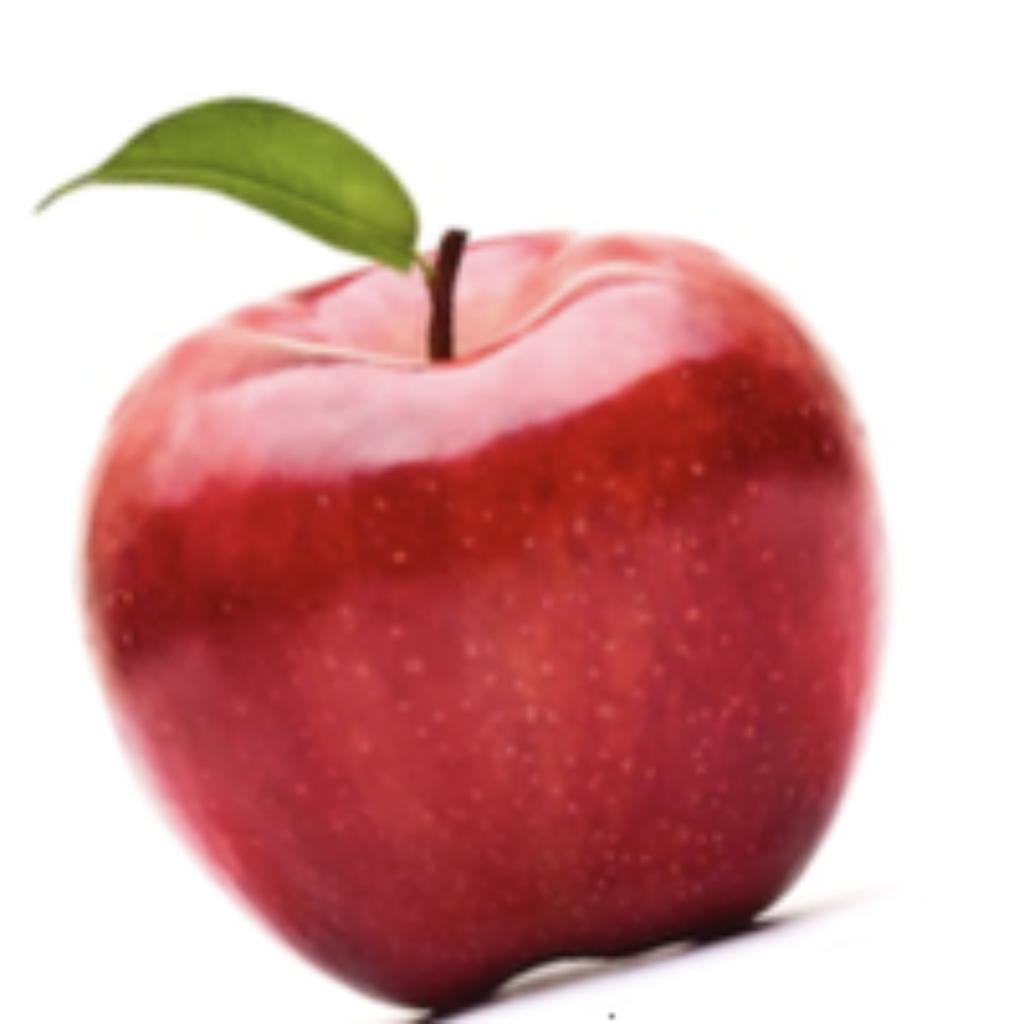apple: (26, 87, 896, 1019)
